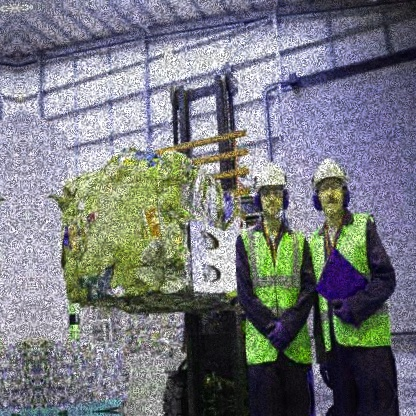vest: (306, 208, 398, 357), (230, 220, 319, 369)
white: (306, 155, 353, 193), (249, 160, 291, 198)
